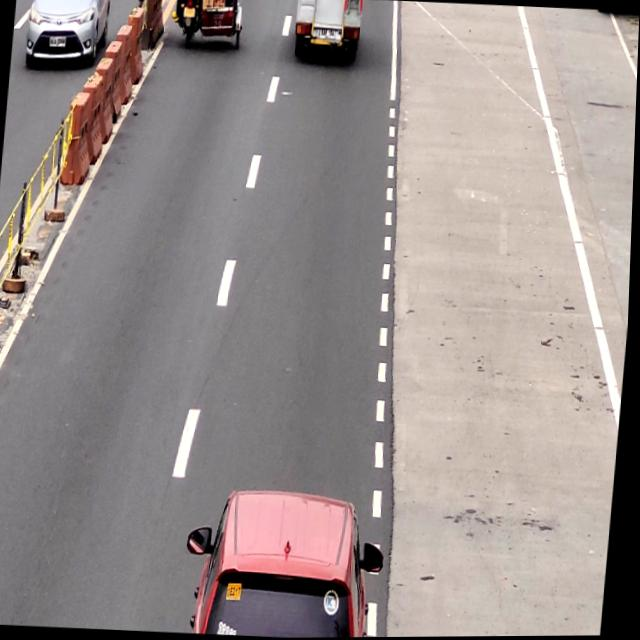Car: (193, 491, 388, 639), (293, 0, 364, 64)
License-Plate: (316, 26, 339, 41)
Tricycle: (172, 0, 245, 47)
